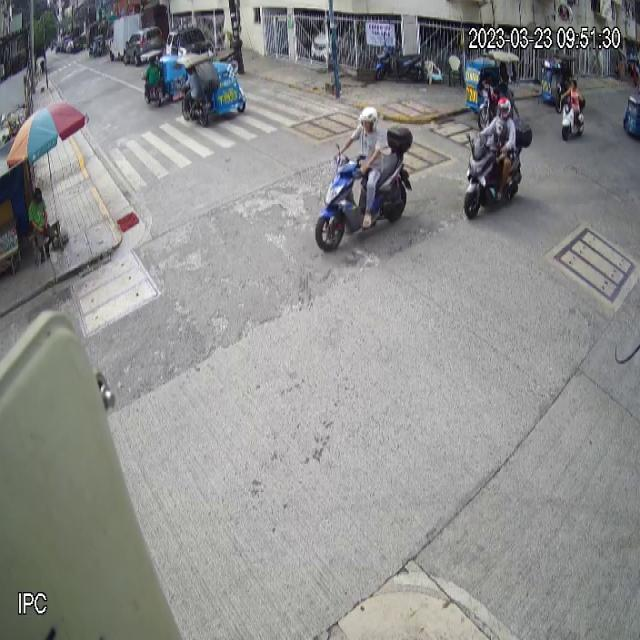Motorcycle: (314, 126, 415, 254), (461, 116, 534, 220)
Tricycle: (176, 52, 247, 128), (464, 50, 520, 130)
